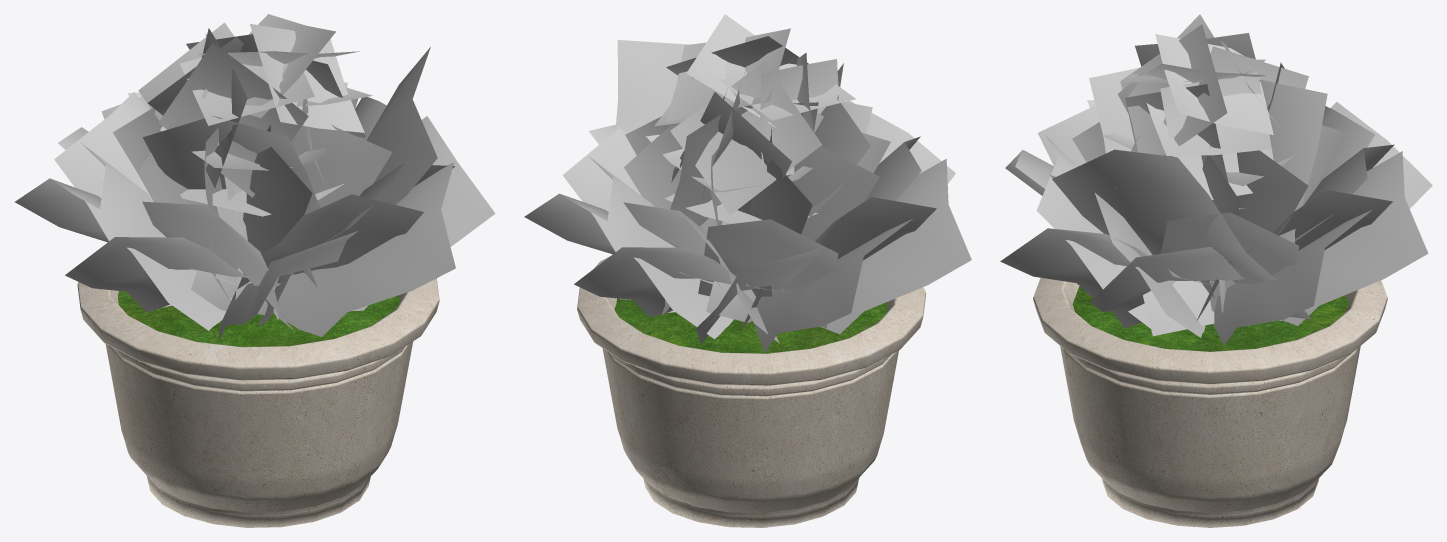
Rendered from chaucay_7.fbx.
3 renders of one model, left to right at view 1: azimuth 30°, elevation 25°; view 2: azimuth 150°, elevation 25°; view 3: azimuth 270°, elevation 25°, orthographic. The views are drawn at different scales.
Visible parts, largest first — view 1: chaucay_G; view 2: chaucay_G; view 3: chaucay_G.
Boxes of the visible parts, x1,y1,x2,y2 form: chaucay_G: (15,14,495,527); chaucay_G: (524,14,971,527); chaucay_G: (1000,14,1432,527).
Size of the model in its own units: 49.23 by 55.36 by 48.04.
